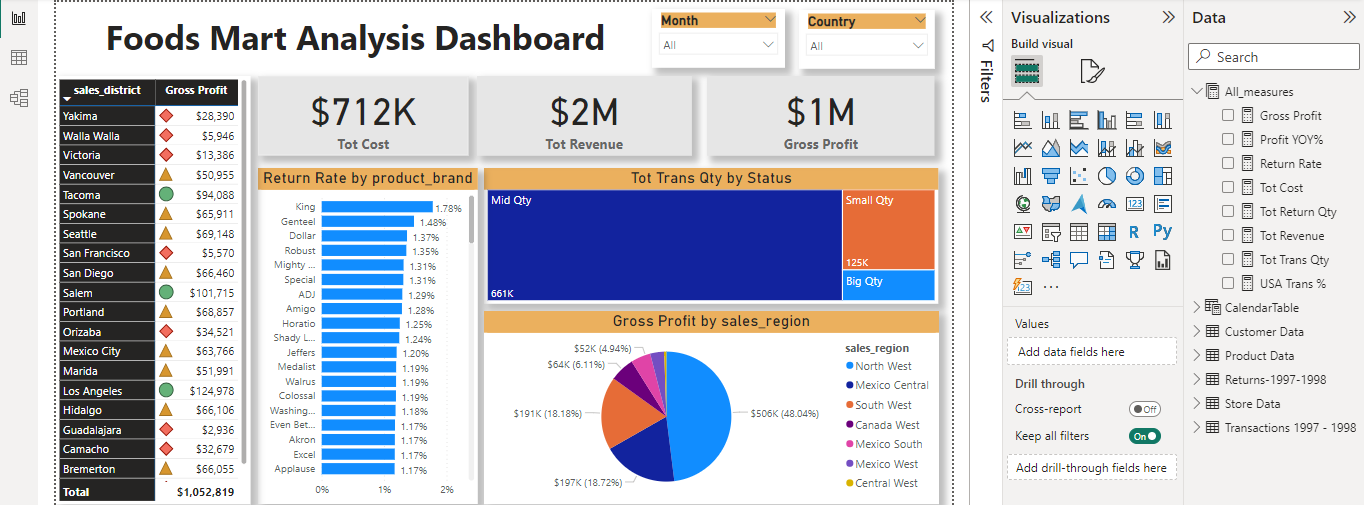

This screenshot's page, from the dashboard's own definition file:
{"tool":"powerbi","page":{"name":"Page 1","canvas":[1280,720],"ordinal":1},"visuals":[{"type":"treemap","fields":{"Group":["Transactions 1997 - 1998.Status"],"Values":["All_measures.Tot Trans Qty"]},"box":[612,237.6,649.4,194.4],"z":0},{"type":"clusteredBarChart","fields":{"Y":["All_measures.Return Rate"],"Category":["Product Data.product_brand"]},"box":[288,237.6,313.9,479.5],"z":1},{"type":"pivotTable","fields":{"Values":["All_measures.Gross Profit"],"Rows":["Store Data.sales_district"]},"box":[0,105.1,277.9,612],"z":2},{"type":"pieChart","fields":{"Y":["All_measures.Gross Profit"],"Category":["Store Data.sales_region"]},"box":[611.4,441.4,650,275.7],"z":3},{"type":"slicer","fields":{"Values":["Store Data.store_country"]},"box":[1061.3,11.5,194.4,83.5],"z":4},{"type":"slicer","fields":{"Values":["CalendarTable.Date.Variation.Date Hierarchy.Month"]},"box":[851,10.1,190.1,83.5],"z":5},{"type":"card","fields":{"Values":["All_measures.Tot Cost"]},"box":[288,105.1,301,113.8],"z":7},{"type":"card","fields":{"Values":["All_measures.Tot Revenue"]},"box":[601.9,105.1,306.7,113.8],"z":8},{"type":"card","fields":{"Values":["All_measures.Gross Profit"]},"box":[930.2,105.1,325.4,113.8],"z":9},{"type":"textbox","box":[18.7,11.5,817.9,80.6],"z":10}]}

Visuals, with their boxes on the page's 1280x720 design canvas (x1, y1, x2, y2). These are canvas units, not pixel positions in the 1364x505 screenshot, which may show the page scaled, cropped or inside an application window:
treemap - Transactions 1997 - 1998.Status x All_measures.Tot Trans Qty: (612,238,1261,432)
clusteredBarChart - All_measures.Return Rate x Product Data.product_brand: (288,238,602,717)
pivotTable - All_measures.Gross Profit x Store Data.sales_district: (0,105,278,717)
pieChart - All_measures.Gross Profit x Store Data.sales_region: (611,441,1261,717)
slicer - Store Data.store_country: (1061,12,1256,95)
slicer - CalendarTable.Date.Variation.Date Hierarchy.Month: (851,10,1041,94)
card - All_measures.Tot Cost: (288,105,589,219)
card - All_measures.Tot Revenue: (602,105,909,219)
card - All_measures.Gross Profit: (930,105,1256,219)
textbox: (19,12,837,92)
